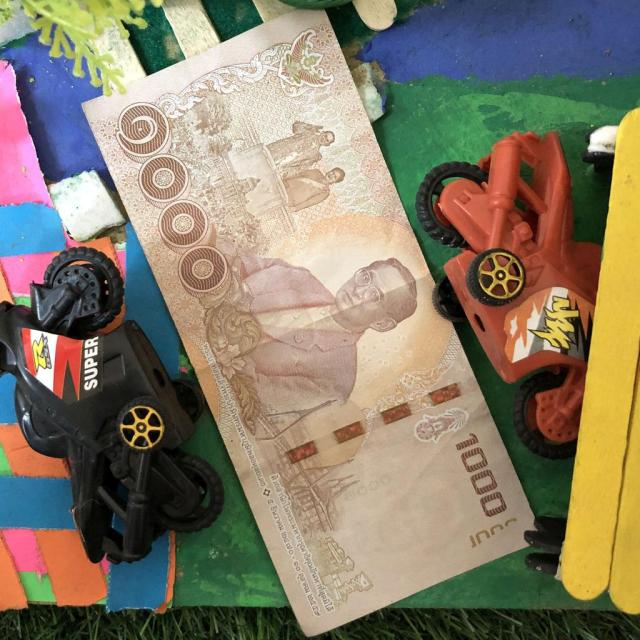THAI1000: (81, 10, 546, 639)
